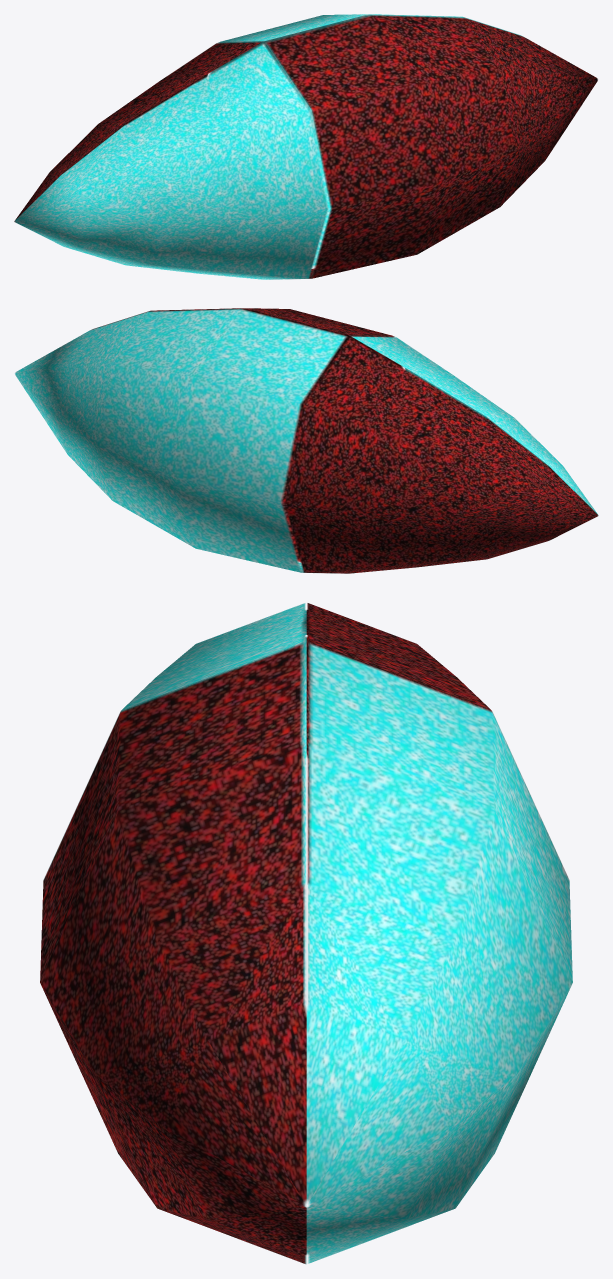
3 views of the same model, one above another, from view 1: azimuth 30°, elevation 25°; view 2: azimuth 150°, elevation 25°; view 3: azimuth 270°, elevation 25° (orthographic). The views are drawn at different scales.
Parts seen in each view (by area): view 1: SM_VFX_Magic_Fire_Projectile_Solid_LOD0; view 2: SM_VFX_Magic_Fire_Projectile_Solid_LOD0; view 3: SM_VFX_Magic_Fire_Projectile_Solid_LOD0.
Boxes of the visible parts, x1,y1,x2,y2 form: SM_VFX_Magic_Fire_Projectile_Solid_LOD0: (14, 14, 597, 279); SM_VFX_Magic_Fire_Projectile_Solid_LOD0: (15, 308, 598, 573); SM_VFX_Magic_Fire_Projectile_Solid_LOD0: (40, 603, 572, 1264).
Size of the model in its own units: 1.49 by 0.5875 by 0.5875.
Materials: 1 (1 with a texture image).
